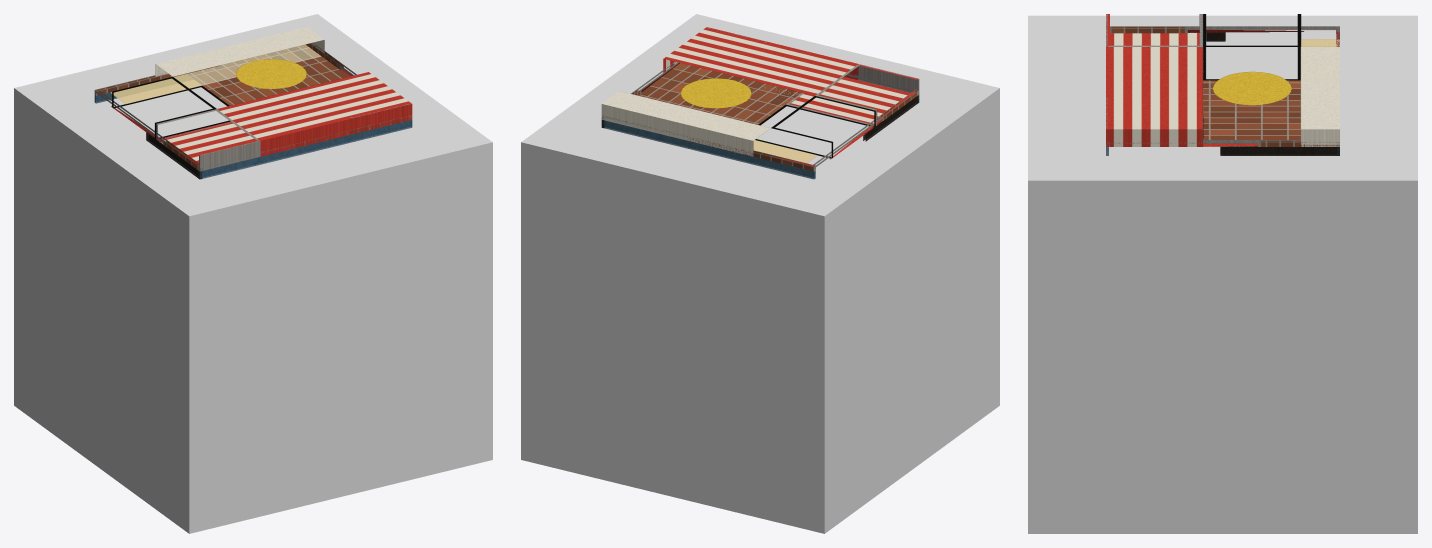
The model's file is masonic_temple.glb.
3 views of the same model, side by side, from view 1: azimuth 30°, elevation 25°; view 2: azimuth 150°, elevation 25°; view 3: azimuth 270°, elevation 25° (orthographic). The views are drawn at different scales.
Parts seen in each view (by area): view 1: Cube, masonic_temple_roof_xb, masonic_temple__wall_0_xb, masonic_temple__portico_xb, masonic_temple__wall_0_xf, masonic_temple_roof_xf, masonic_temple__cornice_3_xb; view 2: Cube, masonic_temple_roof_xb, masonic_temple__portico_xb, masonic_temple__wall_2_xb, masonic_temple__wall_2_xf, masonic_temple__cornice_3_xb, masonic_temple__cornice_2_xb, masonic_temple_roof_xf; view 3: Cube, masonic_temple_roof_xb, masonic_temple__cornice_3_xb, masonic_temple__portico_xb, masonic_temple__wall_1_xb, masonic_temple__wall_1_xf, masonic_temple__cornice_1_xb.
Part boxes in pixels (box(x1,y1,x2,y2)): Cube: box(14, 14, 492, 533); masonic_temple_roof_xb: box(110, 27, 412, 171); masonic_temple__wall_0_xb: box(198, 120, 412, 179); masonic_temple__portico_xb: box(158, 121, 255, 162); masonic_temple__wall_0_xf: box(202, 120, 411, 178); masonic_temple_roof_xf: box(111, 64, 201, 103); masonic_temple__cornice_3_xb: box(95, 89, 202, 170); Cube: box(521, 14, 999, 533); masonic_temple_roof_xb: box(601, 27, 919, 163); masonic_temple__portico_xb: box(753, 77, 910, 124); masonic_temple__wall_2_xb: box(602, 120, 815, 179); masonic_temple__wall_2_xf: box(604, 121, 815, 178); masonic_temple__cornice_3_xb: box(811, 89, 917, 169); masonic_temple__cornice_2_xb: box(603, 115, 815, 171); masonic_temple_roof_xf: box(753, 140, 816, 162); Cube: box(1028, 15, 1417, 533); masonic_temple_roof_xb: box(1106, 14, 1339, 146); masonic_temple__cornice_3_xb: box(1110, 26, 1339, 33); masonic_temple__portico_xb: box(1110, 32, 1203, 139); masonic_temple__wall_1_xb: box(1220, 146, 1339, 155); masonic_temple__wall_1_xf: box(1220, 147, 1339, 155); masonic_temple__cornice_1_xb: box(1108, 140, 1339, 146).
Bounding box in the file's own units: 2 × 2.15 × 2.
Materials: 2 (1 with a texture image).
